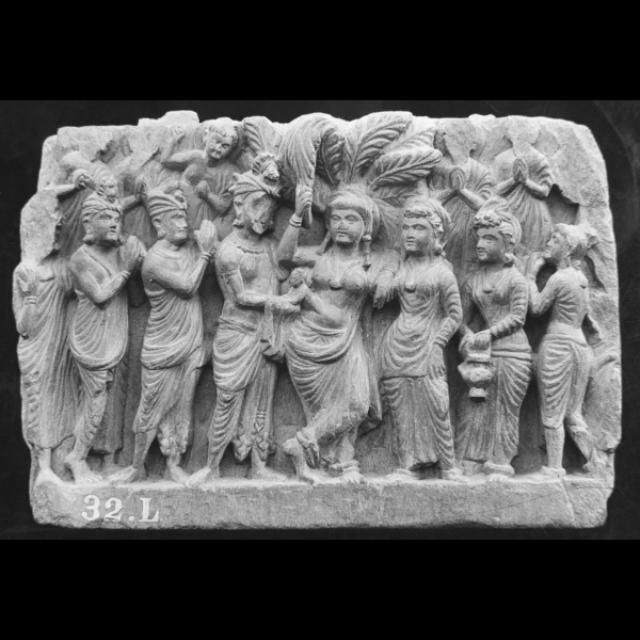buddha-standing: (278, 186, 388, 482)
